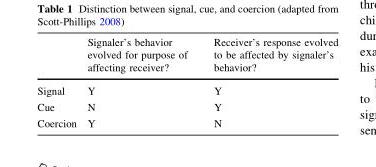table: (36, 37, 337, 128)
table column: (199, 37, 337, 128), (81, 37, 199, 128), (36, 37, 81, 128)
table column header: (36, 37, 337, 79)
table row: (36, 37, 337, 79), (36, 79, 337, 99), (36, 99, 337, 115), (36, 115, 337, 128)
